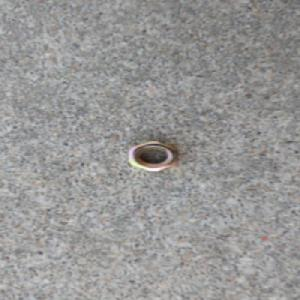Nut: (126, 140, 179, 172)
